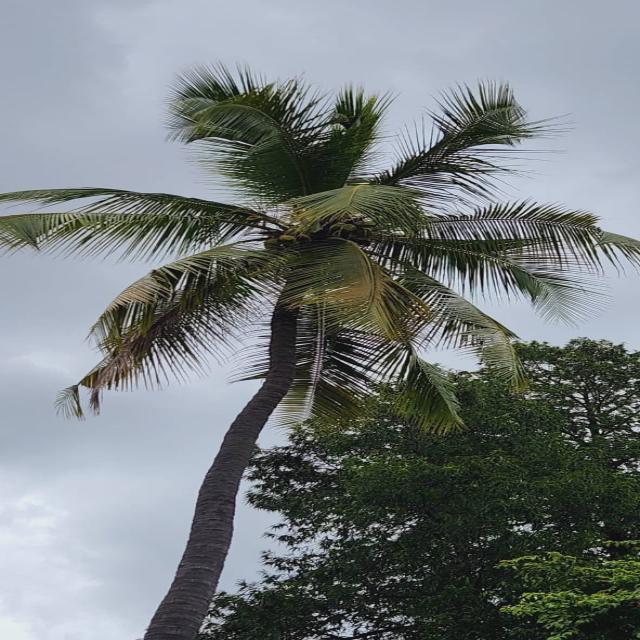Coconut-tree: (119, 46, 535, 640)
